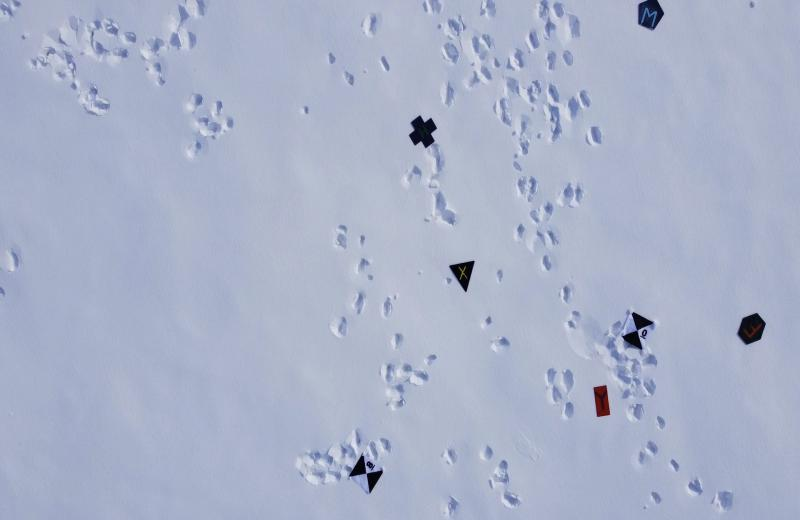Cross: (403, 112, 439, 159)
Hexagon: (732, 310, 771, 354)
Pentagon: (630, 0, 672, 46)
Rectangle: (581, 372, 623, 420)
Triangle: (444, 254, 486, 296)
